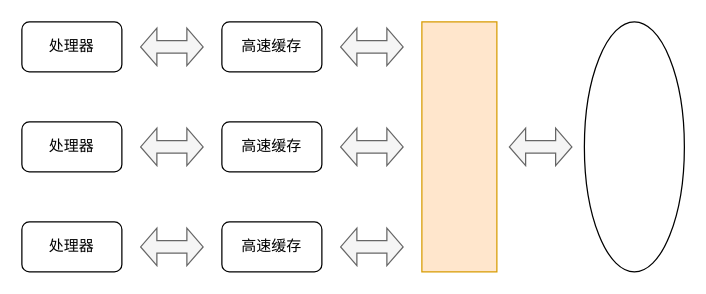
Image size: 706x294. Some labels were removed from this diagram. Each missing label, with the centre of its shape:
主内存: point 633,146
缓存一致性协议: point 459,146
